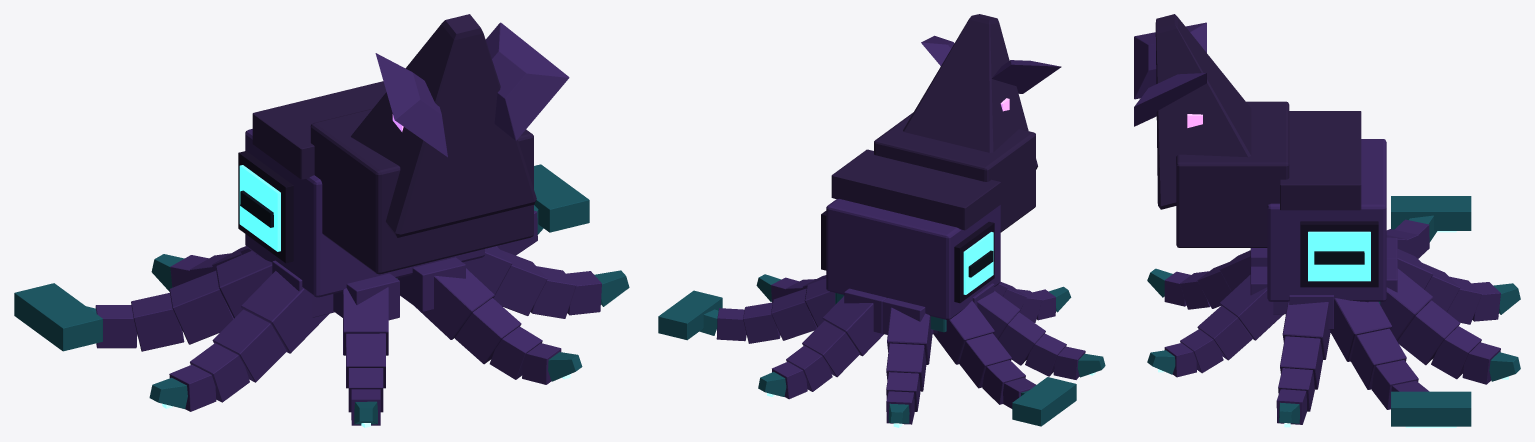
Rendered from kraken.glb.
3 renders of one model, left to right at view 1: azimuth 30°, elevation 25°; view 2: azimuth 150°, elevation 25°; view 3: azimuth 270°, elevation 25°, orthographic. The views are drawn at different scales.
Visible parts, largest first — view 1: body, head, arm.R, ear.R, tail, fin.tail, ear.L, arm.L, fin.R; view 2: head, body, arm.R, arm.L, fin.L, fin.R, ear.R, fin.tail, ear.L; view 3: body, head, arm.L, fin.L, tail, ear.L, fin.R, arm.R, fin.tail.
Part boxes in pixels (bbox=[...]): body: bbox=[310, 14, 569, 274]; head: bbox=[238, 81, 484, 297]; arm.R: bbox=[14, 251, 272, 351]; ear.R: bbox=[149, 260, 334, 411]; tail: bbox=[397, 257, 582, 384]; fin.tail: bbox=[333, 273, 399, 427]; ear.L: bbox=[463, 246, 629, 318]; arm.L: bbox=[497, 164, 589, 255]; fin.R: bbox=[151, 246, 251, 291]; head: bbox=[821, 149, 1000, 332]; body: bbox=[874, 14, 1061, 232]; arm.R: bbox=[933, 300, 1076, 426]; arm.L: bbox=[658, 278, 835, 343]; fin.L: bbox=[758, 288, 886, 399]; fin.R: bbox=[882, 298, 933, 427]; ear.R: bbox=[972, 283, 1105, 379]; fin.tail: bbox=[994, 282, 1071, 322]; ear.L: bbox=[756, 274, 826, 302]; body: bbox=[1134, 14, 1289, 247]; head: bbox=[1267, 111, 1386, 304]; arm.L: bbox=[1330, 298, 1471, 427]; fin.L: bbox=[1380, 259, 1520, 384]; tail: bbox=[1147, 266, 1287, 377]; ear.L: bbox=[1276, 295, 1333, 427]; fin.R: bbox=[1386, 237, 1520, 324]; arm.R: bbox=[1386, 196, 1471, 258]; fin.tail: bbox=[1147, 248, 1267, 309].
Bounding box in the file's own units: 1.38 × 1 × 1.07.
